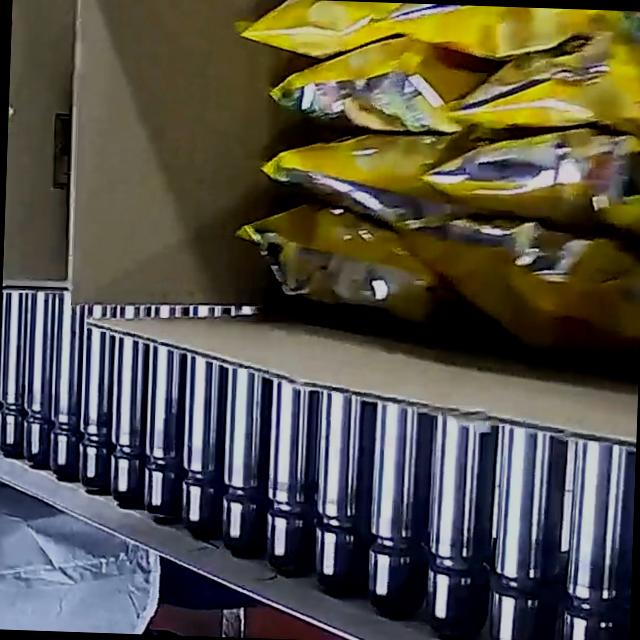salted: (217, 0, 640, 381)
